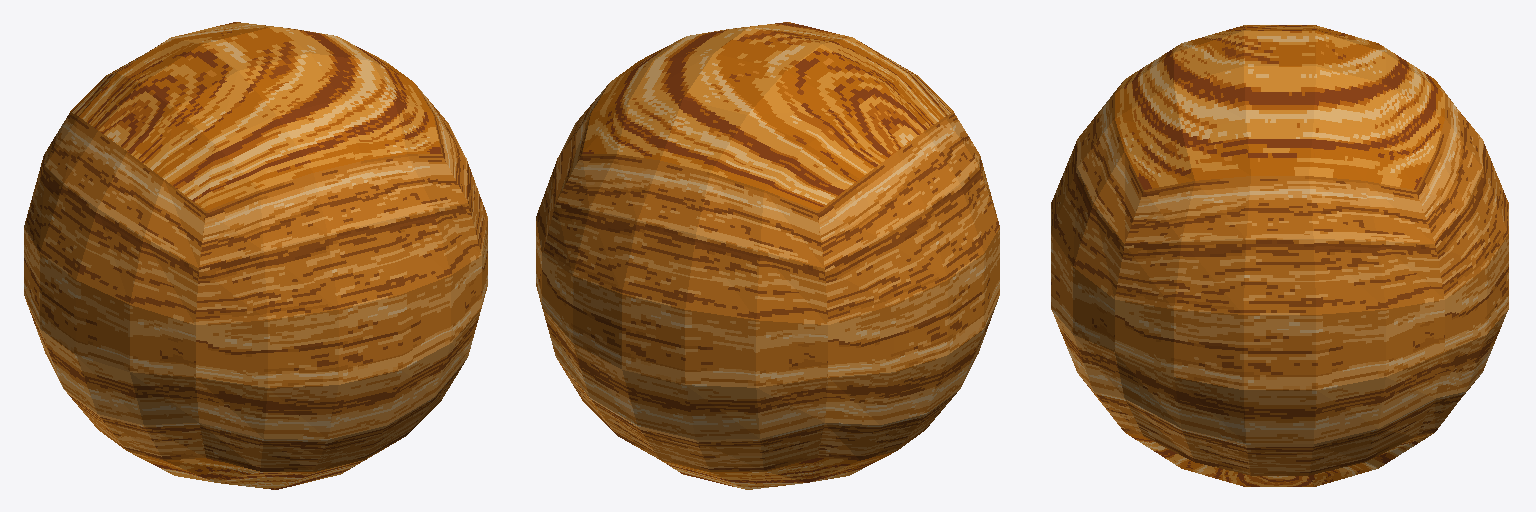
3 renders of one model, left to right at view 1: azimuth 30°, elevation 25°; view 2: azimuth 150°, elevation 25°; view 3: azimuth 270°, elevation 25°, orthographic.
Visible parts, largest first — view 1: 300.018; view 2: 300.018; view 3: 300.018.
Part boxes in pixels (bbox=[...]): 300.018: bbox=[24, 22, 487, 489]; 300.018: bbox=[536, 22, 999, 489]; 300.018: bbox=[1051, 25, 1508, 486].
Bounding box in the file's own units: 3.36 × 3.36 × 3.36.
Materials: 1 (1 with a texture image).